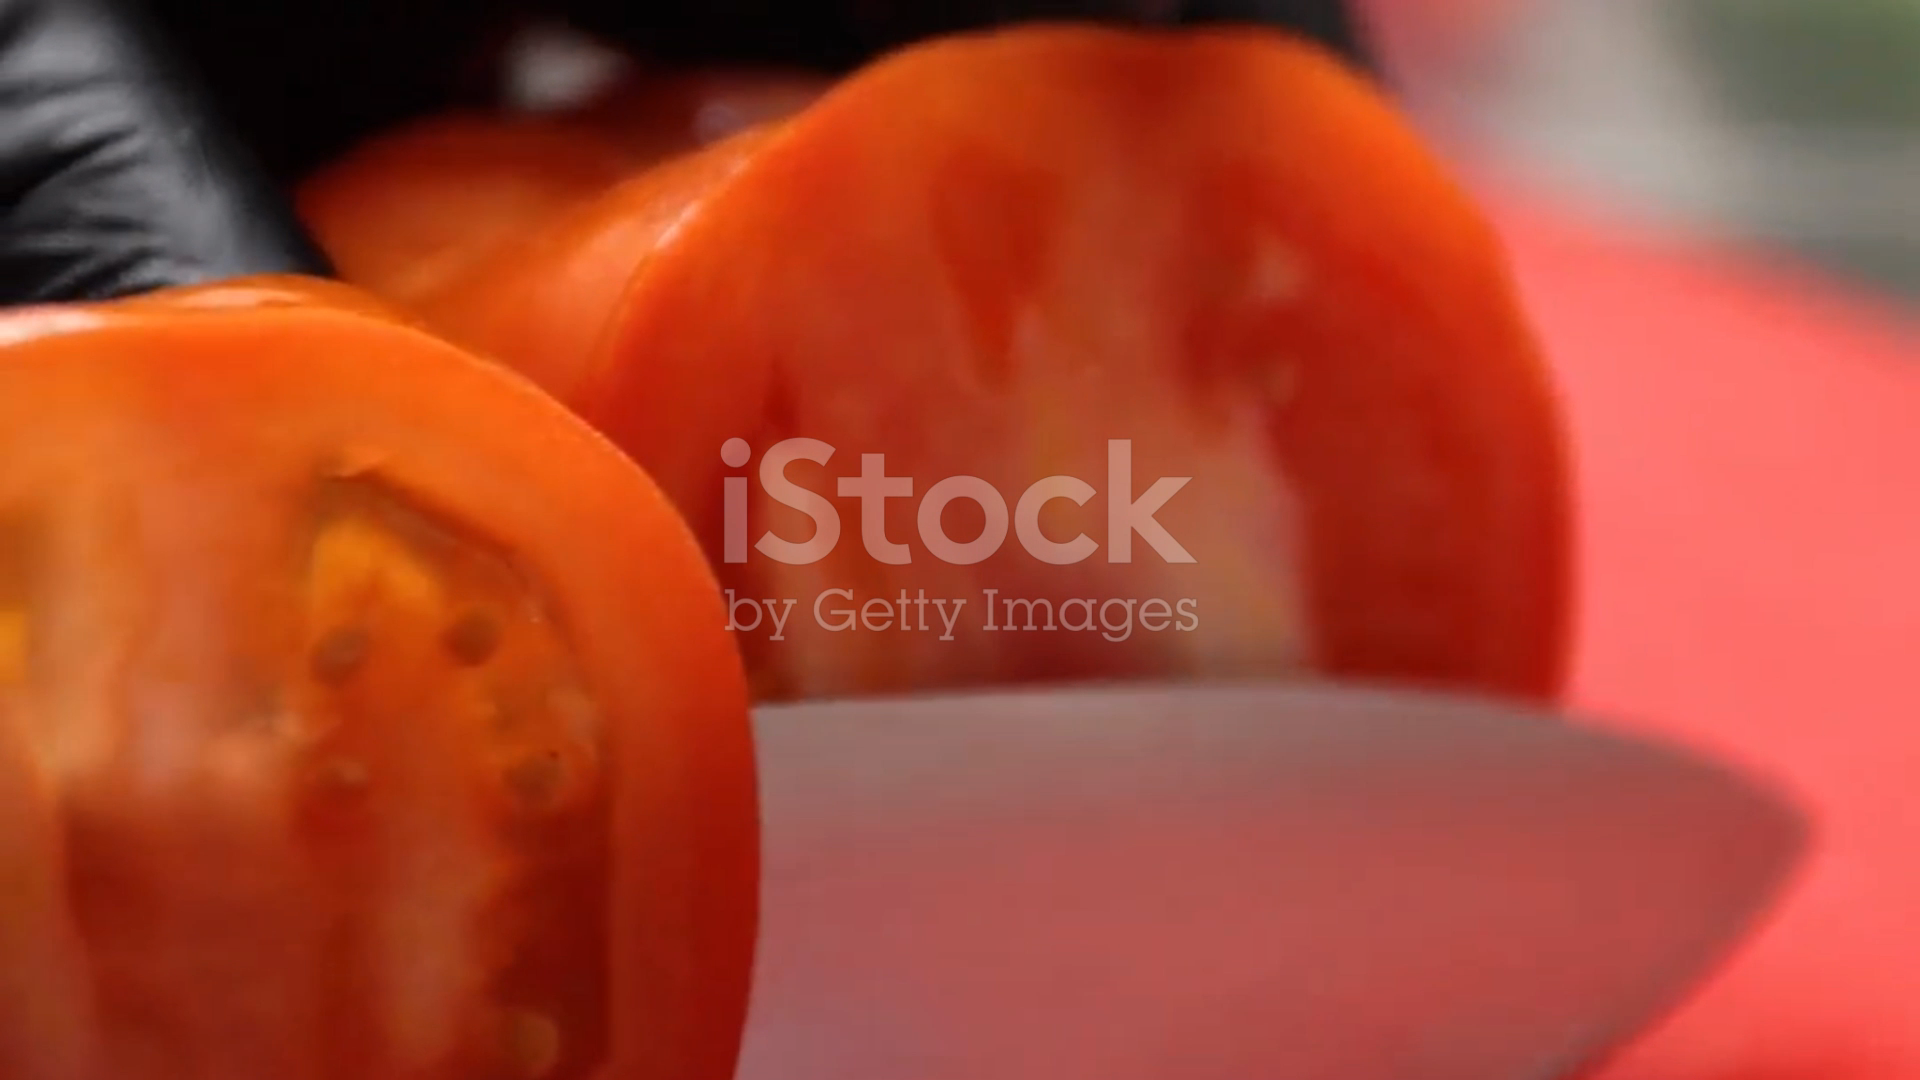cortante: (692, 683, 1815, 1080)
